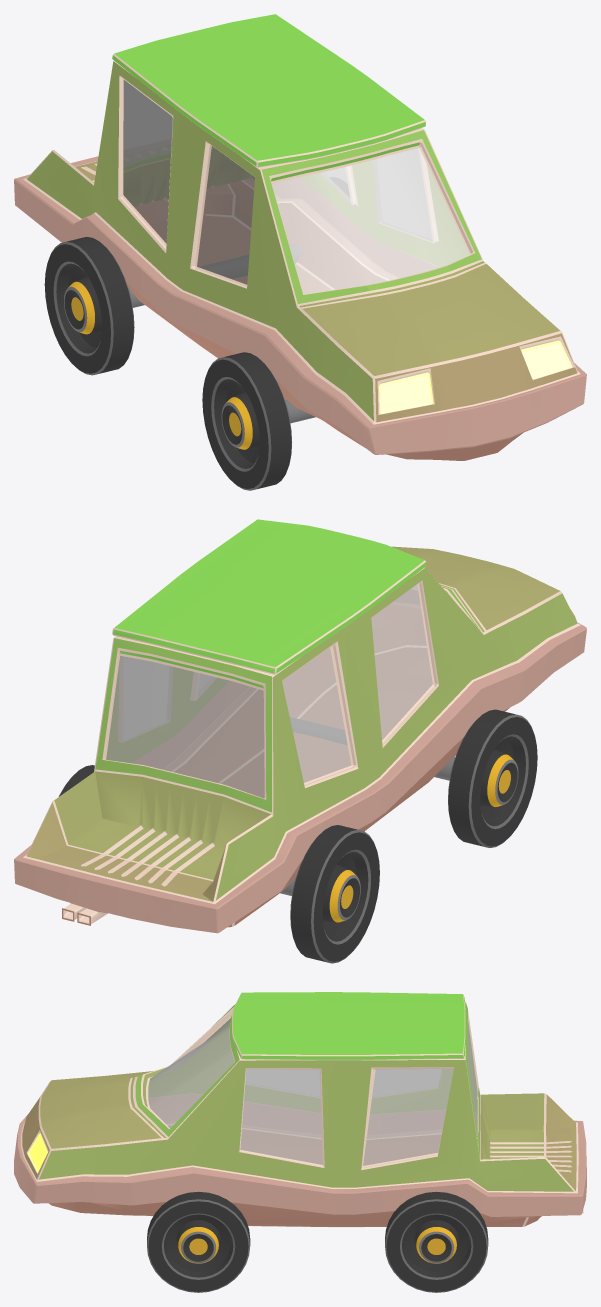
File: lowpolycar-jeep.glb
3 renders of one model, top to bottom at view 1: azimuth 30°, elevation 25°; view 2: azimuth 150°, elevation 25°; view 3: azimuth 270°, elevation 25°, orthographic. The views are drawn at different scales.
Visible parts, largest first — view 1: Auto, Räder; view 2: Auto, Räder; view 3: Auto, Räder.
Part boxes in pixels (x1,y1,x2,y2): Auto: (14, 14, 586, 460); Räder: (44, 236, 315, 490); Auto: (14, 519, 586, 933); Räder: (58, 709, 537, 963); Auto: (14, 992, 586, 1227); Räder: (147, 1191, 488, 1292).
Size of the model in its own units: 5.52 by 5.61 by 13.17.
4 materials, 2 textured.
